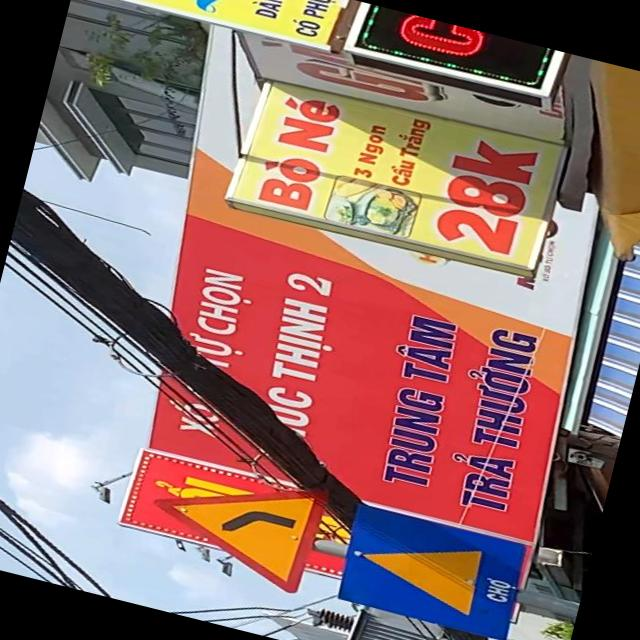W-201a: (137, 446, 330, 596)
